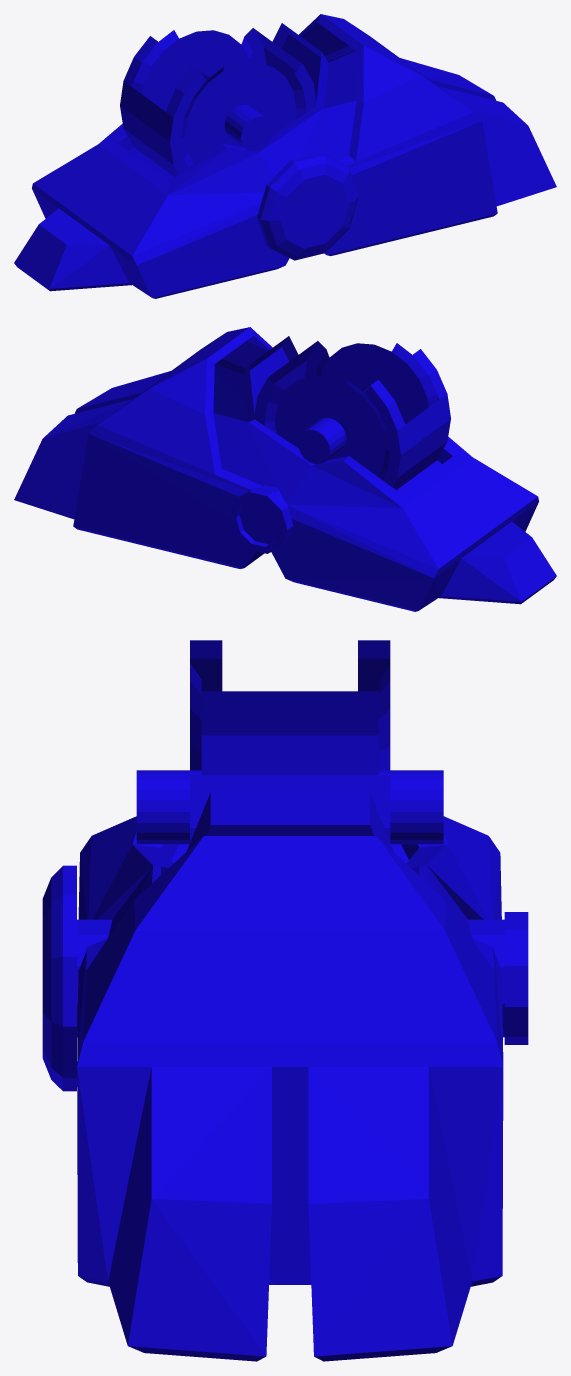
File: new_foot.dae
The picture shows the model from 3 angles, top to bottom: view 1: azimuth 30°, elevation 25°; view 2: azimuth 150°, elevation 25°; view 3: azimuth 270°, elevation 25°; orthographic projection. The views are drawn at different scales.
Parts seen in each view (by area): view 1: Robot; view 2: Robot; view 3: Robot.
Boxes of the visible parts, x1=… form: Robot: x1=14, y1=14, x2=556, y2=298; Robot: x1=14, y1=327, x2=556, y2=611; Robot: x1=42, y1=640, x2=528, y2=1361.
Size of the model in its own units: 0.6012 by 0.2554 by 0.2212.
